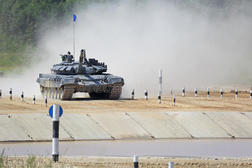t72: (38, 49, 123, 100)
